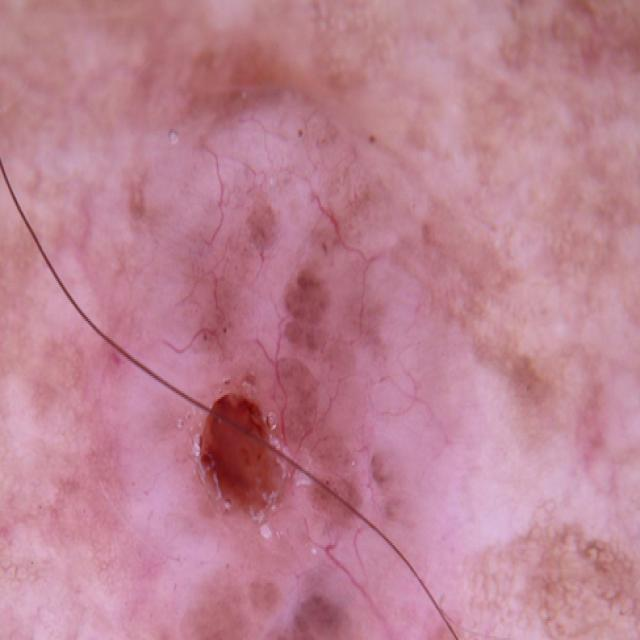Carcinoma: (161, 326, 373, 567)
